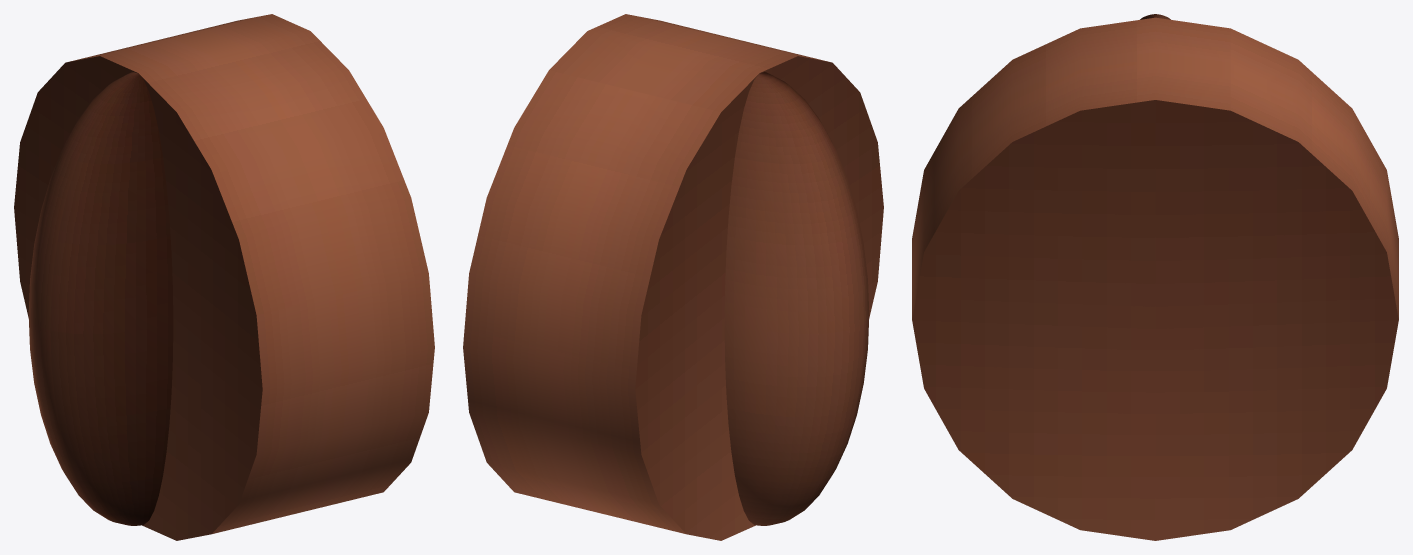
Rendered from perilla4.obj.
3 renders of one model, left to right at view 1: azimuth 30°, elevation 25°; view 2: azimuth 150°, elevation 25°; view 3: azimuth 270°, elevation 25°, orthographic. The views are drawn at different scales.
Parts seen in each view (by area): view 1: cuarto:cuarto:polySurface11600; view 2: cuarto:cuarto:polySurface11600; view 3: cuarto:cuarto:polySurface11600.
Part boxes in pixels (x1,y1,x2,y2): cuarto:cuarto:polySurface11600: (14,14,434,540); cuarto:cuarto:polySurface11600: (463,14,883,540); cuarto:cuarto:polySurface11600: (912,14,1398,540).
Bounding box in the file's own units: 0.0961 × 0.1498 × 0.1498.
1 material, 1 textured.
